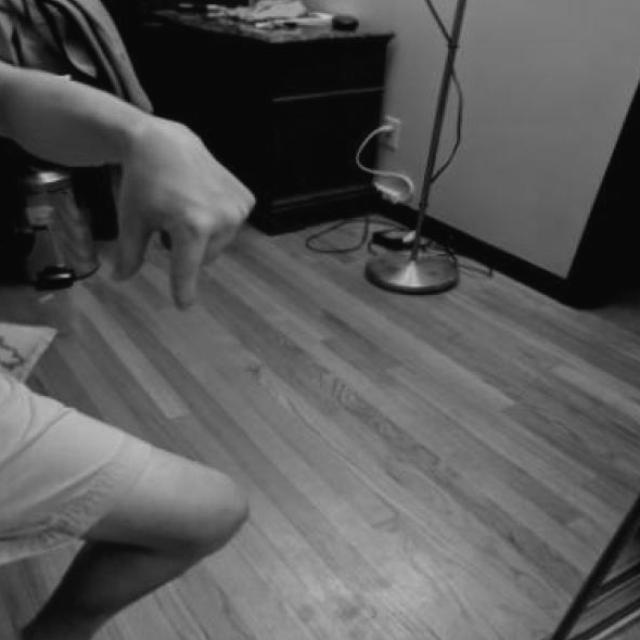Q: (19, 83, 290, 302)
